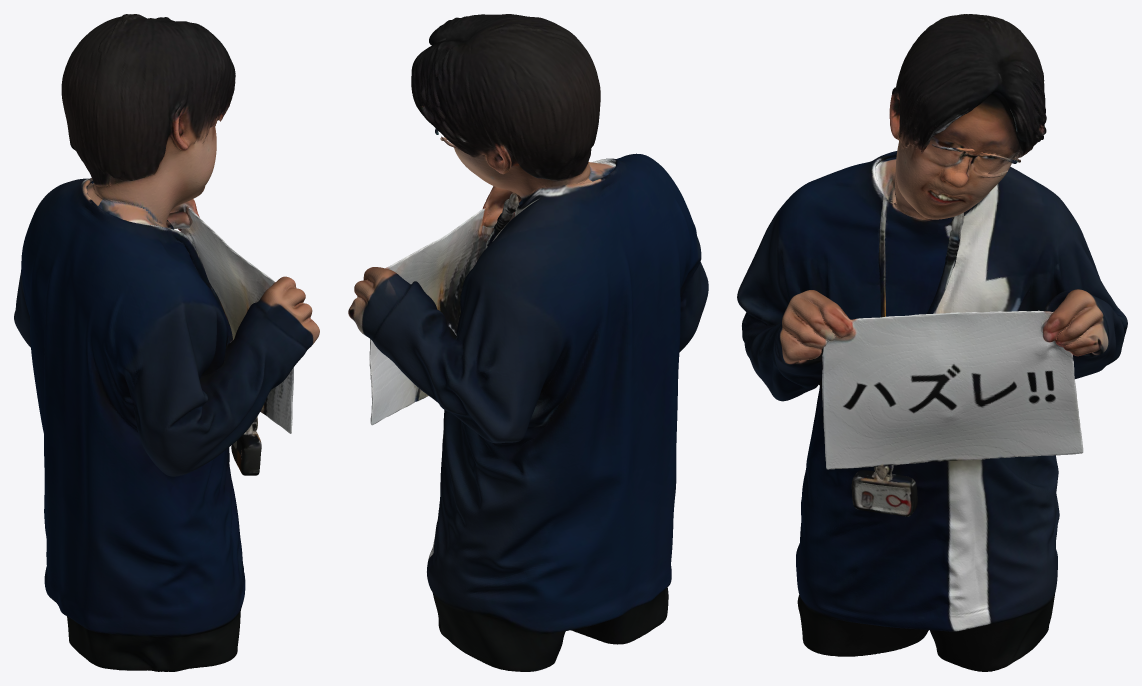
The picture shows the model from 3 angles, left to right: view 1: azimuth 30°, elevation 25°; view 2: azimuth 150°, elevation 25°; view 3: azimuth 270°, elevation 25°; orthographic projection. The views are drawn at different scales.
Parts seen in each view (by area): view 1: tripo_node_23e3e9d9-bd8a-4b6c-9d29-0ec747e2912f; view 2: tripo_node_23e3e9d9-bd8a-4b6c-9d29-0ec747e2912f; view 3: tripo_node_23e3e9d9-bd8a-4b6c-9d29-0ec747e2912f.
Part boxes in pixels (x1,y1,x2,y2): tripo_node_23e3e9d9-bd8a-4b6c-9d29-0ec747e2912f: (14,14,319,671); tripo_node_23e3e9d9-bd8a-4b6c-9d29-0ec747e2912f: (348,14,708,671); tripo_node_23e3e9d9-bd8a-4b6c-9d29-0ec747e2912f: (737,14,1127,671).
Bounding box in the file's own units: 0.3669 × 1 × 0.5711.
Materials: 1 (1 with a texture image).
